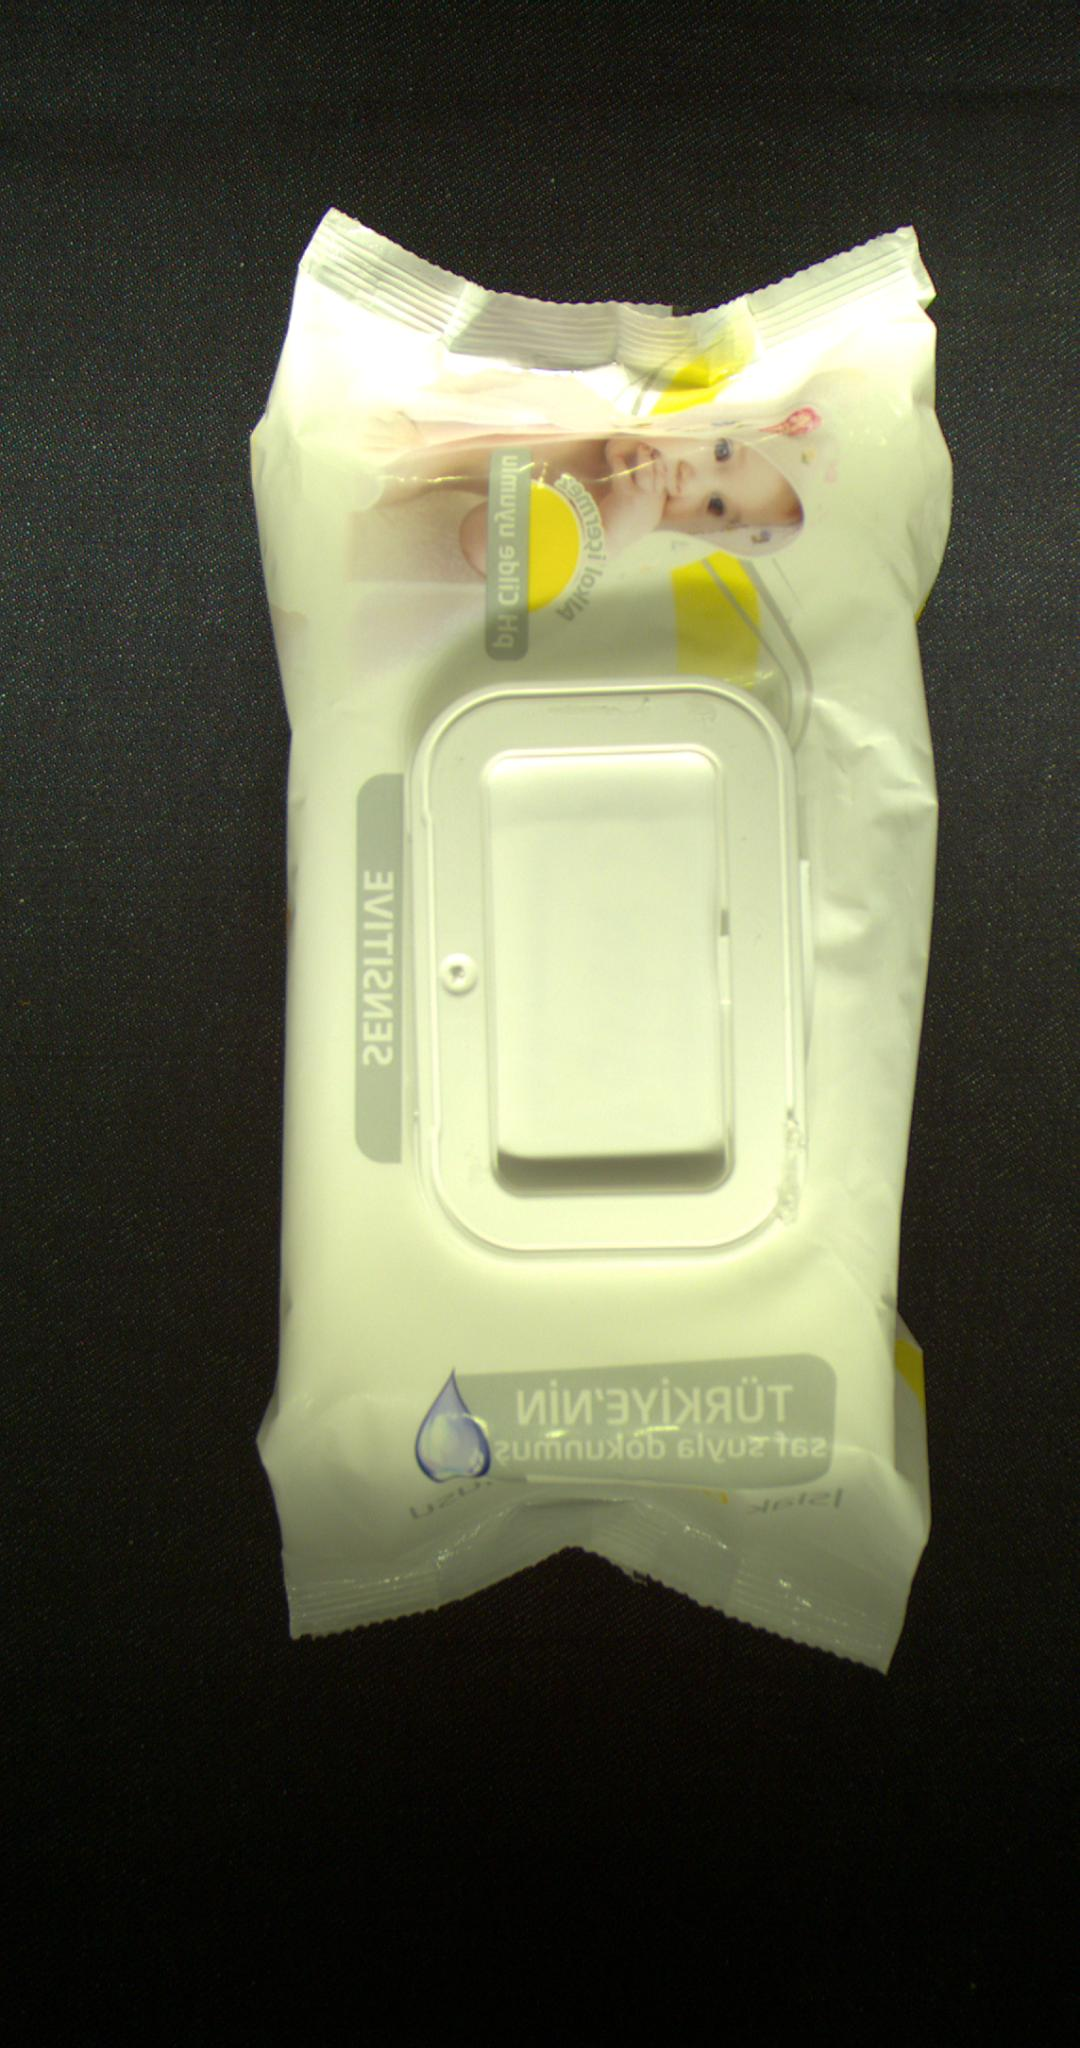hatali-kapak: (402, 670, 814, 1271)
